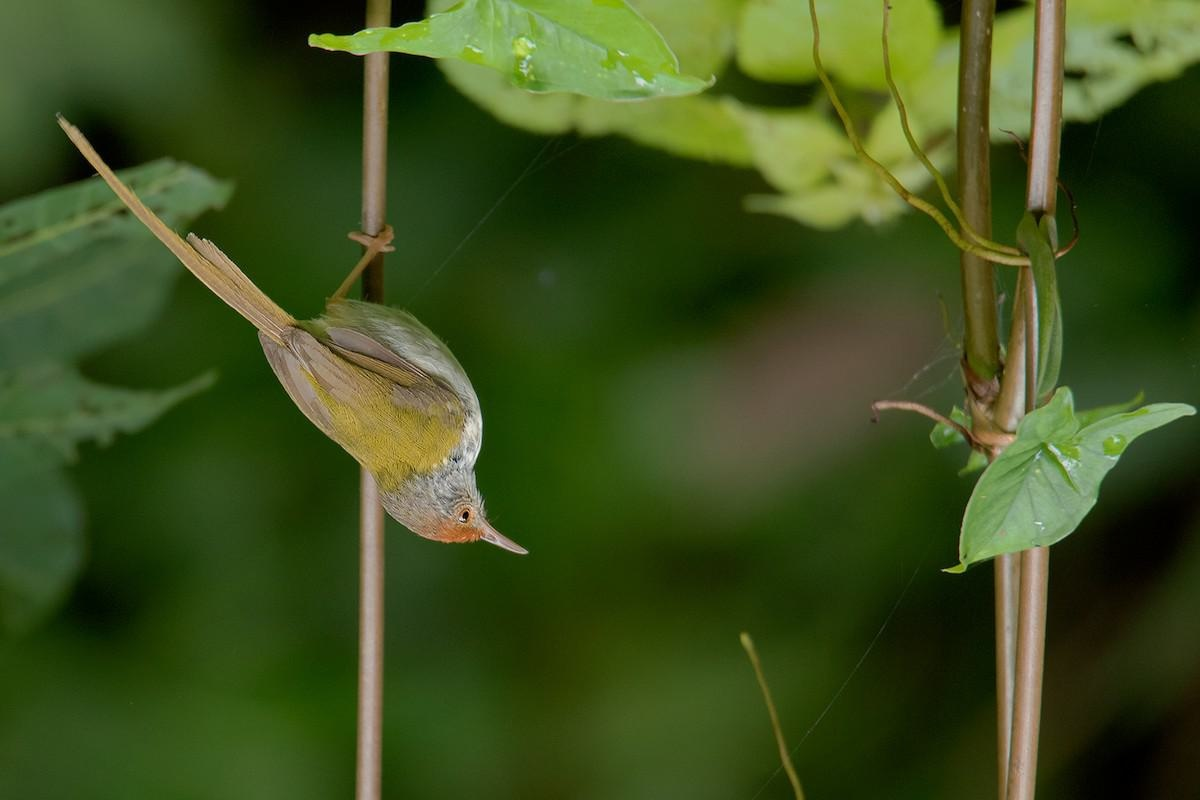tailorbird: (67, 94, 554, 592)
